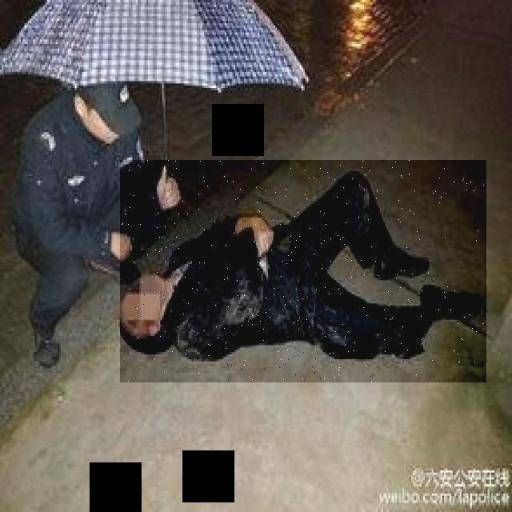Fall: (120, 160, 486, 382)
